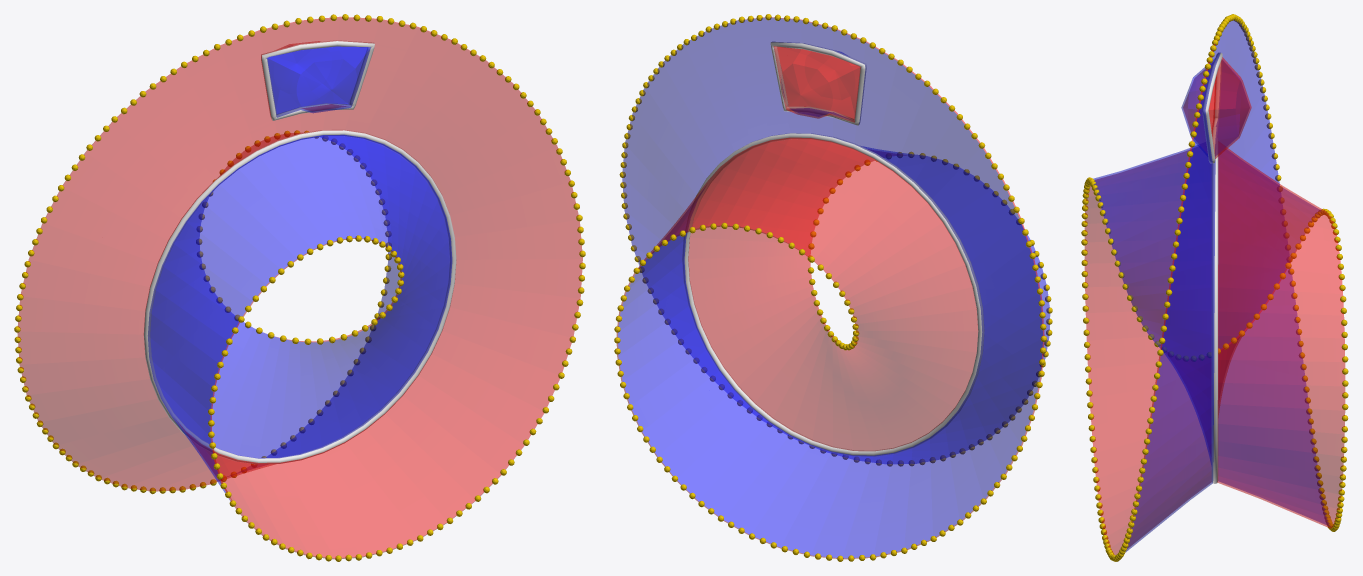
File: l3_1_bubble.glb
The picture shows the model from 3 angles, left to right: view 1: azimuth 30°, elevation 25°; view 2: azimuth 150°, elevation 25°; view 3: azimuth 270°, elevation 25°; orthographic projection. The views are drawn at different scales.
Parts seen in each view (by area): view 1: l3_1, Icosphere, sing; view 2: l3_1, Icosphere, sing; view 3: l3_1, Icosphere, sing.
Boxes of the visible parts, x1=… form: l3_1: x1=17, y1=16, x2=582, y2=559; Icosphere: x1=14, y1=14, x2=585, y2=561; sing: x1=143, y1=40, x2=456, y2=464; l3_1: x1=616, y1=17, x2=1050, y2=559; Icosphere: x1=614, y1=14, x2=1052, y2=561; sing: x1=682, y1=41, x2=984, y2=456; l3_1: x1=1084, y1=20, x2=1345, y2=554; Icosphere: x1=1081, y1=14, x2=1348, y2=561; sing: x1=1202, y1=52, x2=1222, y2=483.
Bounding box in the file's own units: 171 × 163 × 81.47.
